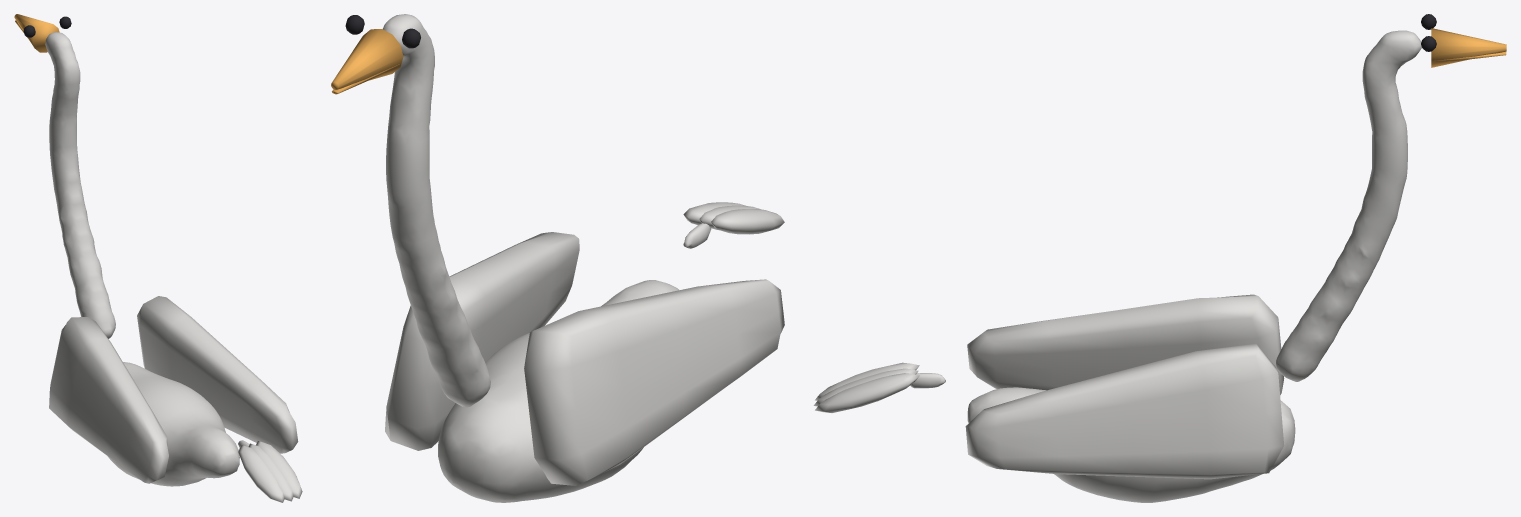
The model's file is swan.glb.
3 renders of one model, left to right at view 1: azimuth 30°, elevation 25°; view 2: azimuth 150°, elevation 25°; view 3: azimuth 270°, elevation 25°, orthographic. The views are drawn at different scales.
Visible parts, largest first — view 1: WingR, WingL, NeckHead, Body, TailFan; view 2: WingR, NeckHead, WingL, Body, TailFan; view 3: WingL, WingR, NeckHead, Body, TailFan.
Part boxes in pixels (x1,y1,x2,y2): WingR: [49, 317, 168, 483]; WingL: [137, 296, 298, 453]; NeckHead: [14, 14, 115, 338]; Body: [107, 362, 249, 486]; TailFan: [238, 441, 302, 502]; WingR: [524, 279, 784, 485]; NeckHead: [331, 14, 490, 407]; WingL: [385, 232, 579, 450]; Body: [438, 223, 711, 502]; TailFan: [683, 202, 784, 234]; WingL: [965, 343, 1284, 479]; WingR: [967, 294, 1284, 395]; NeckHead: [1276, 14, 1506, 381]; Body: [910, 373, 1295, 502]; TailFan: [813, 362, 919, 412].
Size of the model in its own units: 0.4433 by 1.03 by 1.38.
